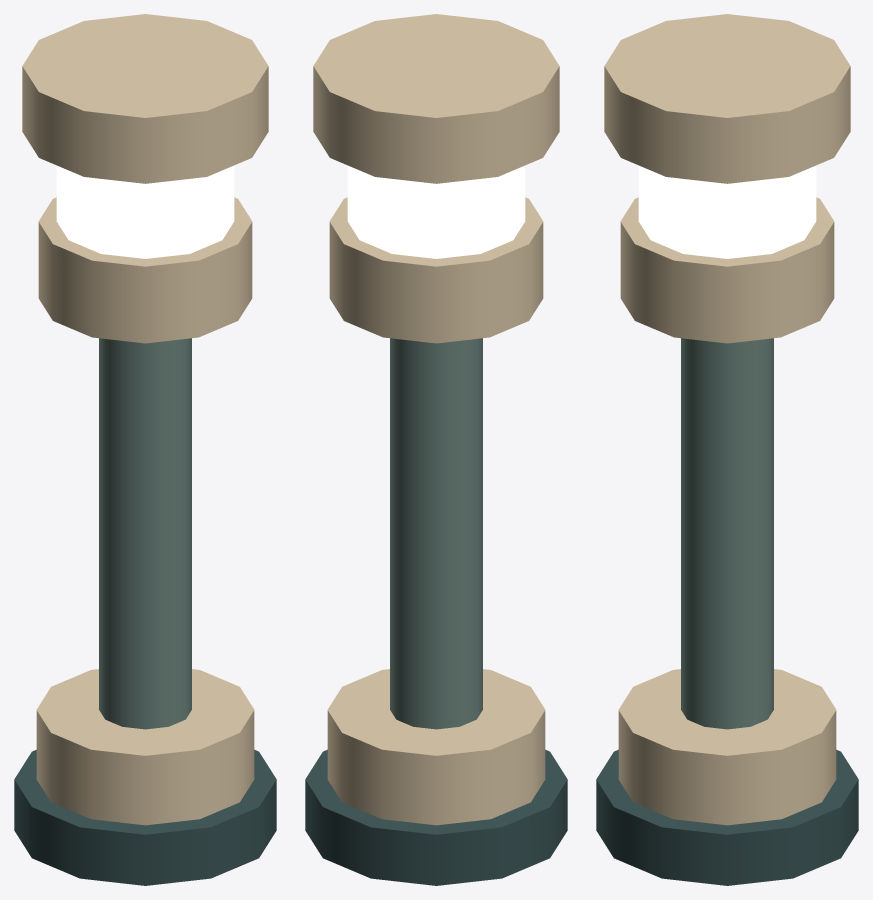
File: lamp-post.glb
The picture shows the model from 3 angles, left to right: view 1: azimuth 30°, elevation 25°; view 2: azimuth 150°, elevation 25°; view 3: azimuth 270°, elevation 25°; orthographic projection.
Visible parts, largest first — view 1: lamp-post; view 2: lamp-post; view 3: lamp-post.
Part boxes in pixels (<box>): lamp-post: <box>14,14,276,885</box>; lamp-post: <box>305,14,567,885</box>; lamp-post: <box>596,14,858,885</box>.
Size of the model in its own units: 0.65 by 2.09 by 0.65.
Materials: 2 (1 with a texture image).
